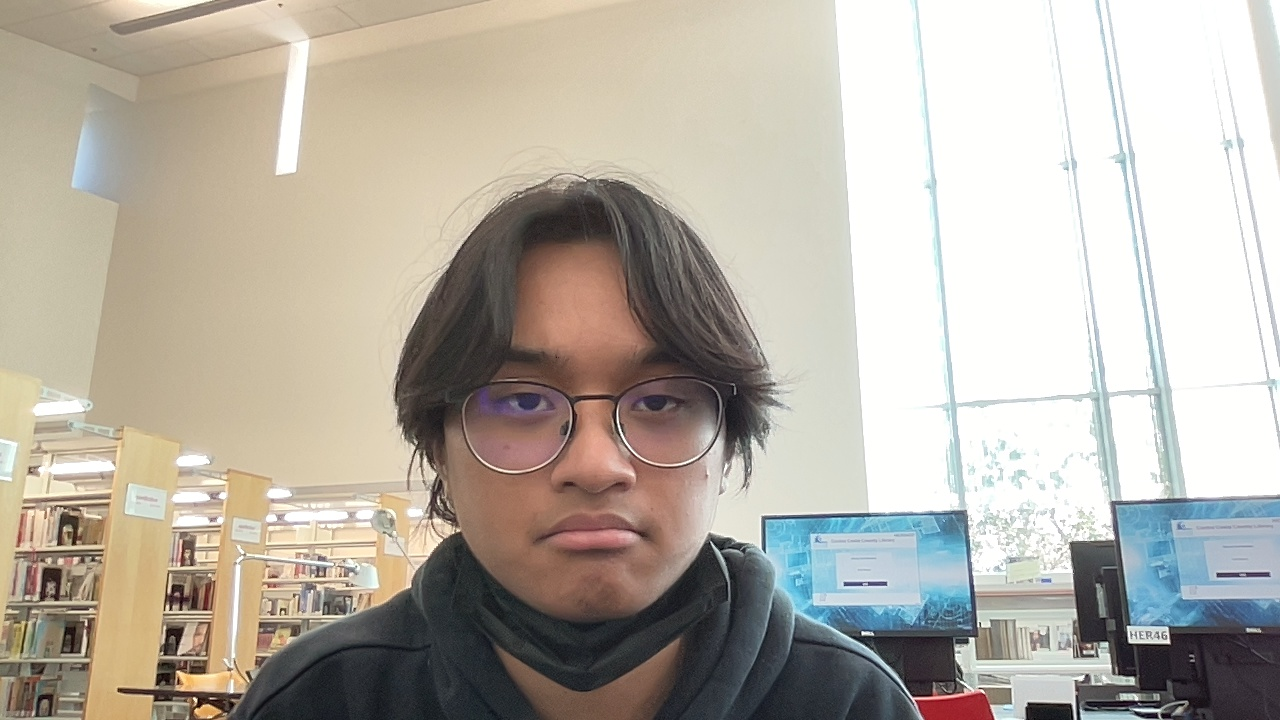sad: (431, 237, 737, 627)
